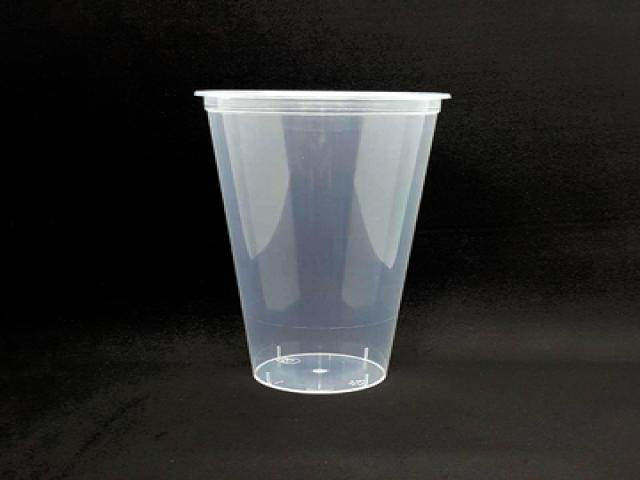cup: (198, 91, 450, 393)
